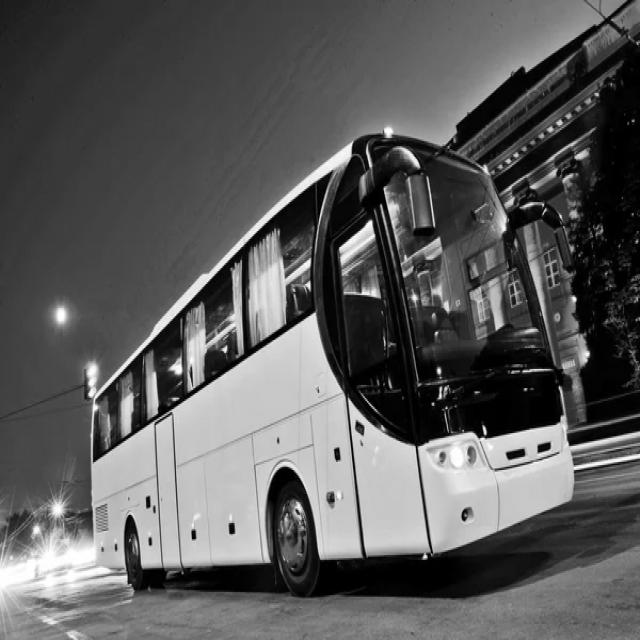Bus: (92, 135, 575, 596)
